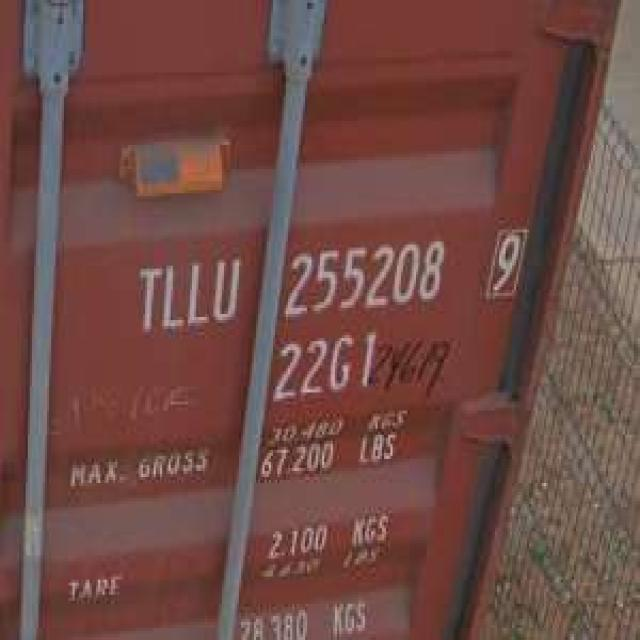dv: (482, 220, 529, 305)
owner: (130, 248, 243, 341)
serial: (277, 232, 450, 320)
size: (269, 326, 380, 405)
